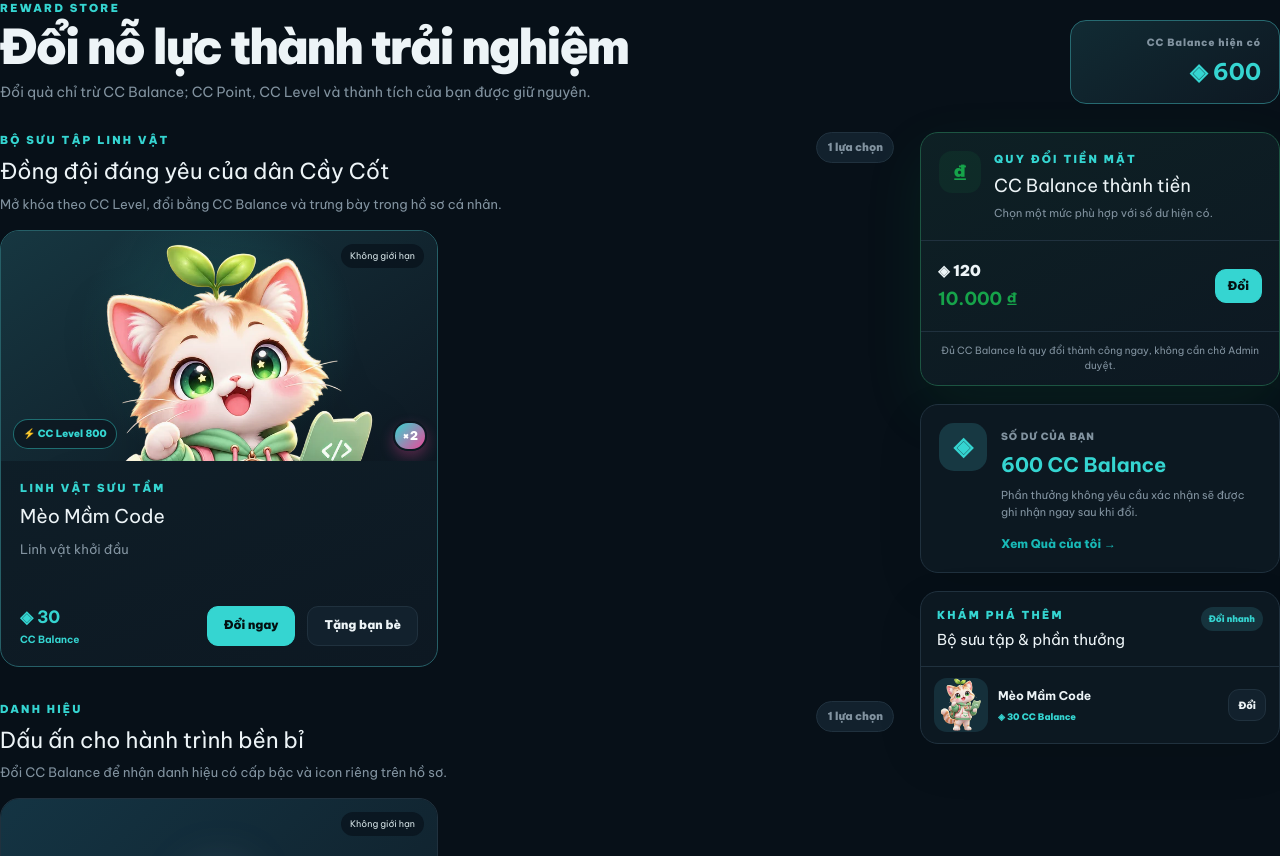
Test: RewardsPage › opens a dedicated confirmation dialog before redeeming
What coordinates should you click on to do the following:
click the button "Đổi ngay"
I would click on:
 (251, 626)
Its box is [207,606,296,646].
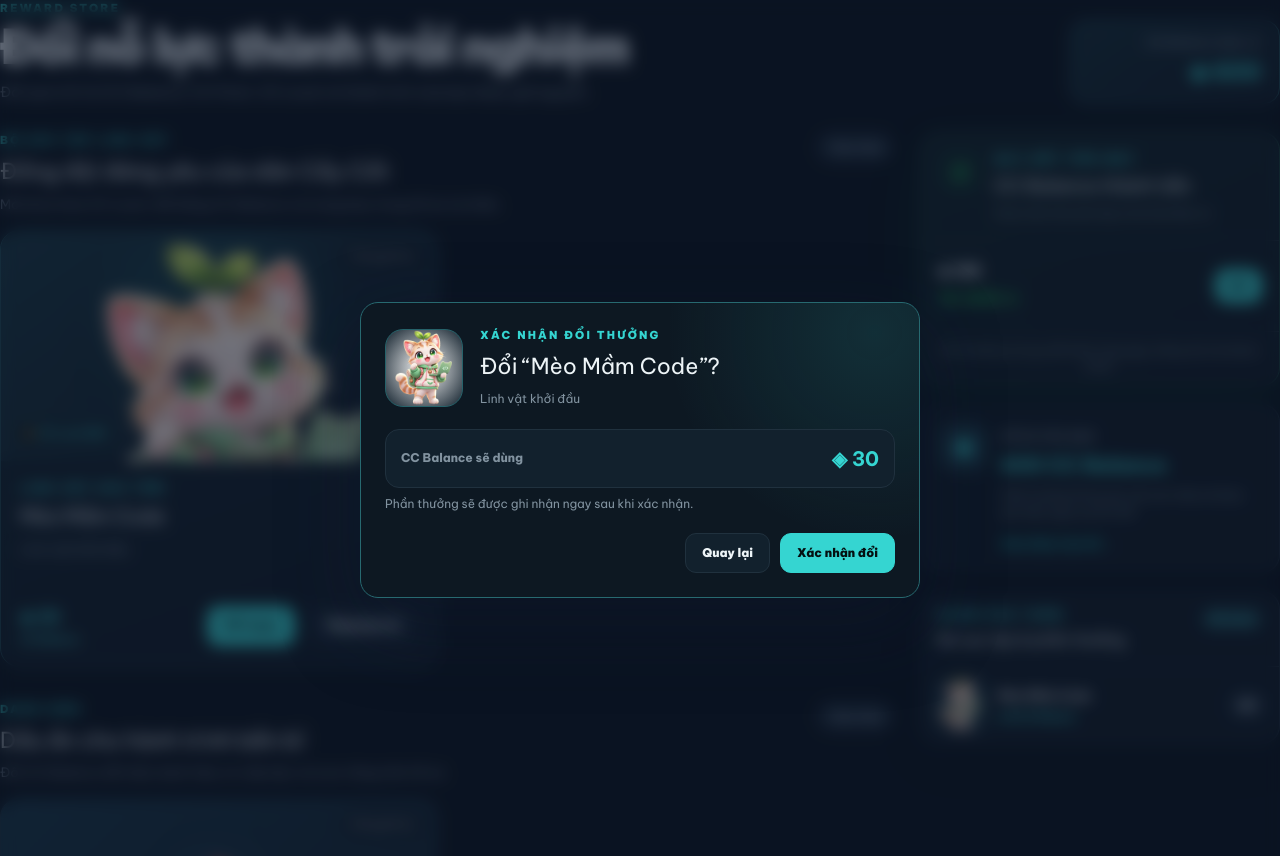
Expected: the dialog "Đổi “Mèo Mầm Code”?" is shown, [360,302,920,598]
Expected: the text "CC Balance sẽ dùng" is shown, [401,449,523,467]
Expected: the button "Xác nhận đổi" is shown, [780,533,895,573]
